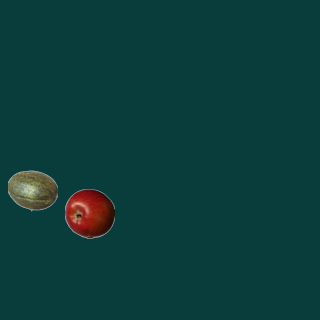Apple Braeburn: (64, 188, 114, 238)
Melon Piel de Sapo: (7, 165, 57, 215)
